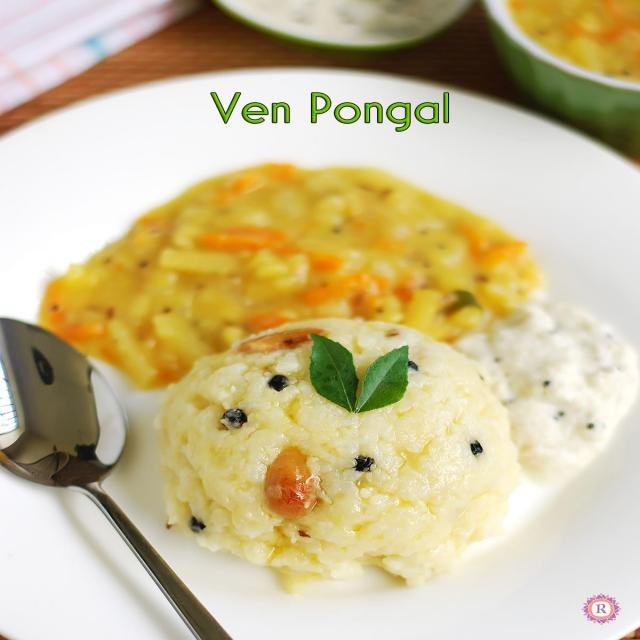khara pongal: (142, 312, 530, 607)
